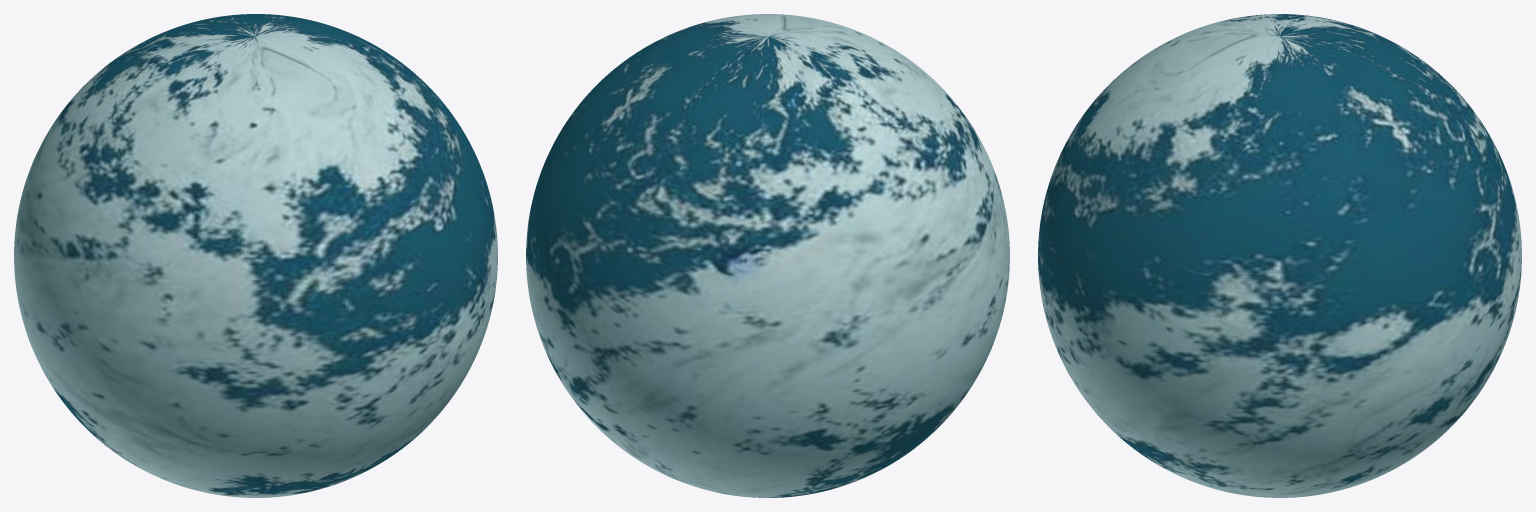
3 renders of one model, left to right at view 1: azimuth 30°, elevation 25°; view 2: azimuth 150°, elevation 25°; view 3: azimuth 270°, elevation 25°, orthographic.
Visible parts, largest first — view 1: Sphere; view 2: Sphere; view 3: Sphere.
Boxes of the visible parts, x1,y1,x2,y2 form: Sphere: (14, 14, 497, 497); Sphere: (526, 14, 1009, 497); Sphere: (1038, 14, 1521, 497).
Size of the model in its own units: 2 by 2 by 2.
1 material, 1 textured.
